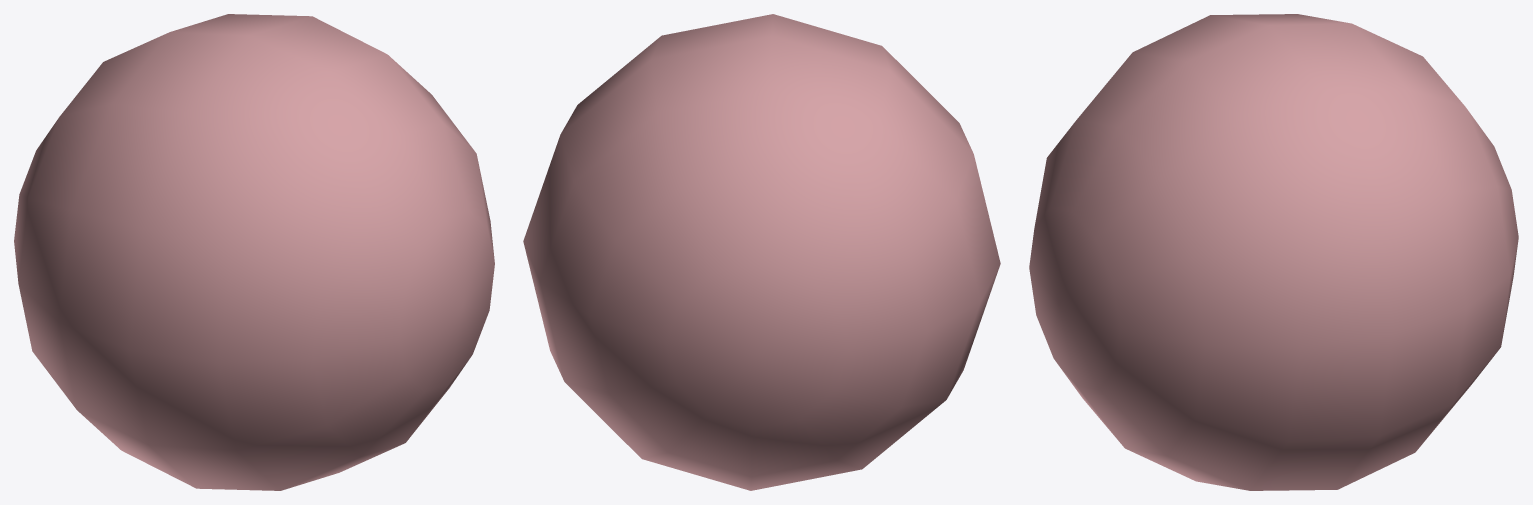
3 views of the same model, side by side, from view 1: azimuth 30°, elevation 25°; view 2: azimuth 150°, elevation 25°; view 3: azimuth 270°, elevation 25° (orthographic). The views are drawn at different scales.
Visible parts, largest first — view 1: ZA_182e22064567cf4e; view 2: ZA_182e22064567cf4e; view 3: ZA_182e22064567cf4e.
Boxes of the visible parts, box(x1,y1,x2,y2) form: ZA_182e22064567cf4e: box(14, 14, 494, 490); ZA_182e22064567cf4e: box(523, 14, 1000, 490); ZA_182e22064567cf4e: box(1029, 14, 1518, 490).
Bounding box in the file's own units: 0.00258 × 0.0026 × 0.00258.
